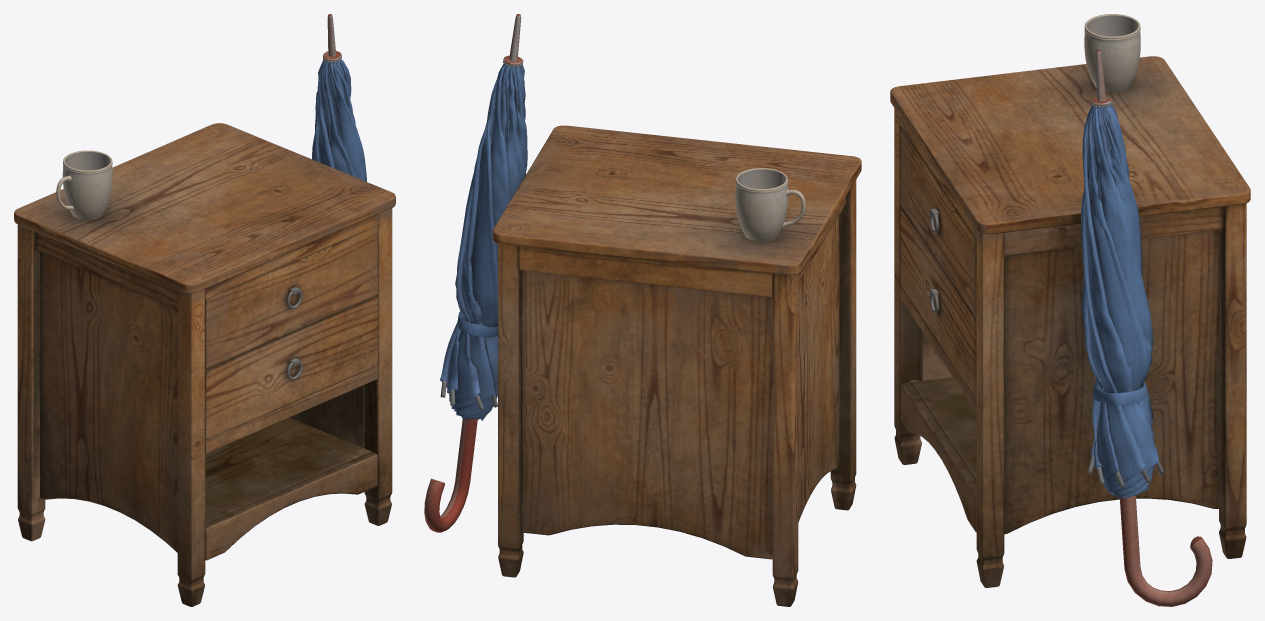
3 views of the same model, side by side, from view 1: azimuth 30°, elevation 25°; view 2: azimuth 150°, elevation 25°; view 3: azimuth 270°, elevation 25° (orthographic). The views are drawn at different scales.
Visible parts, largest first — view 1: table_008_mesh_Mesh.009, table_001_mesh_Mesh.018, drawer_006_mesh_Mesh.029, drawer_004_mesh_Mesh.027, leg_001_mesh_Mesh.005, table_012_mesh_Mesh.001, leg_003_mesh_Mesh.008, leg_002_mesh_Mesh.007, table_010_mesh_Mesh.003, fabric_mesh_Mesh.062, crockery_cup_mesh_Mesh.038, table_004_mesh_Mesh.014 (+3 smaller); view 2: table_009_mesh_Mesh.004, table_008_mesh_Mesh.009, fabric_mesh_Mesh.062, table_001_mesh_Mesh.018, leg_003_mesh_Mesh.008, leg_004_mesh_Mesh.006, table_007_mesh_Mesh.010, leg_001_mesh_Mesh.005, crockery_cup_mesh_Mesh.038, handle_mesh_Mesh.059; view 3: table_006_mesh_Mesh.011, table_008_mesh_Mesh.009, fabric_mesh_Mesh.062, leg_002_mesh_Mesh.007, leg_004_mesh_Mesh.006, drawer_006_mesh_Mesh.029, drawer_004_mesh_Mesh.027, leg_001_mesh_Mesh.005, table_005_mesh_Mesh.013, crockery_cup_mesh_Mesh.038, handle_mesh_Mesh.059, table_012_mesh_Mesh.001 (+6 smaller).
Boxes of the visible parts, x1=… form: table_008_mesh_Mesh.009: x1=14, y1=123, x2=395, y2=293; table_001_mesh_Mesh.018: x1=40, y1=252, x2=177, y2=552; drawer_006_mesh_Mesh.029: x1=205, y1=296, x2=377, y2=440; drawer_004_mesh_Mesh.027: x1=205, y1=225, x2=377, y2=369; leg_001_mesh_Mesh.005: x1=177, y1=289, x2=205, y2=606; table_012_mesh_Mesh.001: x1=205, y1=417, x2=371, y2=523; leg_003_mesh_Mesh.008: x1=17, y1=224, x2=45, y2=541; leg_002_mesh_Mesh.007: x1=364, y1=208, x2=392, y2=525; table_010_mesh_Mesh.003: x1=205, y1=452, x2=377, y2=560; fabric_mesh_Mesh.062: x1=312, y1=59, x2=366, y2=181; crockery_cup_mesh_Mesh.038: x1=56, y1=150, x2=112, y2=220; table_004_mesh_Mesh.014: x1=35, y1=231, x2=177, y2=308; table_009_mesh_Mesh.004: x1=520, y1=270, x2=772, y2=559; table_008_mesh_Mesh.009: x1=492, y1=125, x2=861, y2=274; fabric_mesh_Mesh.062: x1=440, y1=63, x2=527, y2=420; table_001_mesh_Mesh.018: x1=798, y1=214, x2=839, y2=522; leg_003_mesh_Mesh.008: x1=772, y1=273, x2=798, y2=606; leg_004_mesh_Mesh.006: x1=498, y1=243, x2=523, y2=577; table_007_mesh_Mesh.010: x1=519, y1=246, x2=772, y2=297; leg_001_mesh_Mesh.005: x1=830, y1=180, x2=856, y2=510; crockery_cup_mesh_Mesh.038: x1=735, y1=168, x2=805, y2=241; handle_mesh_Mesh.059: x1=424, y1=418, x2=477, y2=532; table_006_mesh_Mesh.011: x1=1004, y1=229, x2=1220, y2=534; table_008_mesh_Mesh.009: x1=890, y1=56, x2=1250, y2=234; fabric_mesh_Mesh.062: x1=1081, y1=104, x2=1159, y2=498; leg_002_mesh_Mesh.007: x1=976, y1=231, x2=1004, y2=587; leg_004_mesh_Mesh.006: x1=1219, y1=203, x2=1246, y2=558; drawer_006_mesh_Mesh.029: x1=900, y1=206, x2=976, y2=396; drawer_004_mesh_Mesh.027: x1=900, y1=126, x2=976, y2=316; leg_001_mesh_Mesh.005: x1=894, y1=108, x2=921, y2=464; table_005_mesh_Mesh.013: x1=1004, y1=206, x2=1222, y2=255; crockery_cup_mesh_Mesh.038: x1=1084, y1=14, x2=1140, y2=92; handle_mesh_Mesh.059: x1=1119, y1=496, x2=1212, y2=606; table_012_mesh_Mesh.001: x1=911, y1=377, x2=976, y2=481.
Size of what is drawn, in the model's own units: 0.6684 by 0.868 by 0.5309.
Materials: 7 (7 with a texture image).
